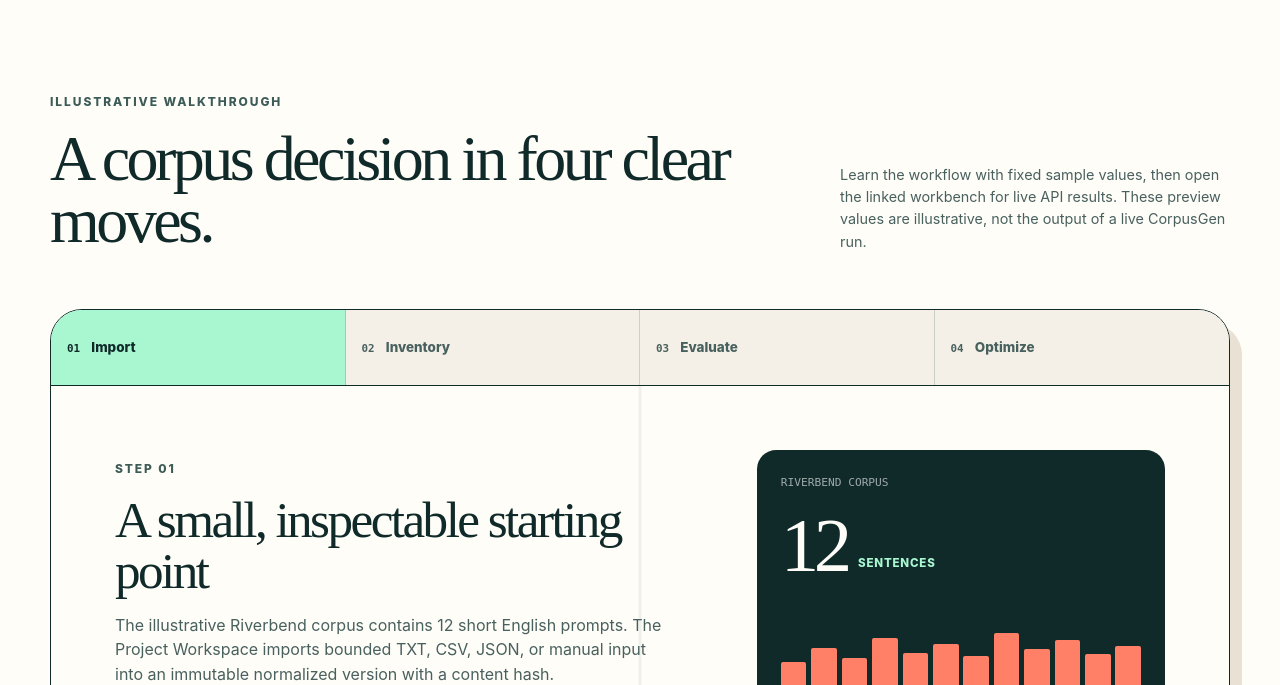
Test: GuidedDemo › labels its values as illustrative and changes steps accessibly
The width and height of the screenshot is (1280, 685).
expect the text "not the output of a live CorpusGen run" is shown: met, box [840,166,1225,250]
Click the tab named "04 optimize": click(1005, 347) [934,310,1229,385]
(page scrolled)
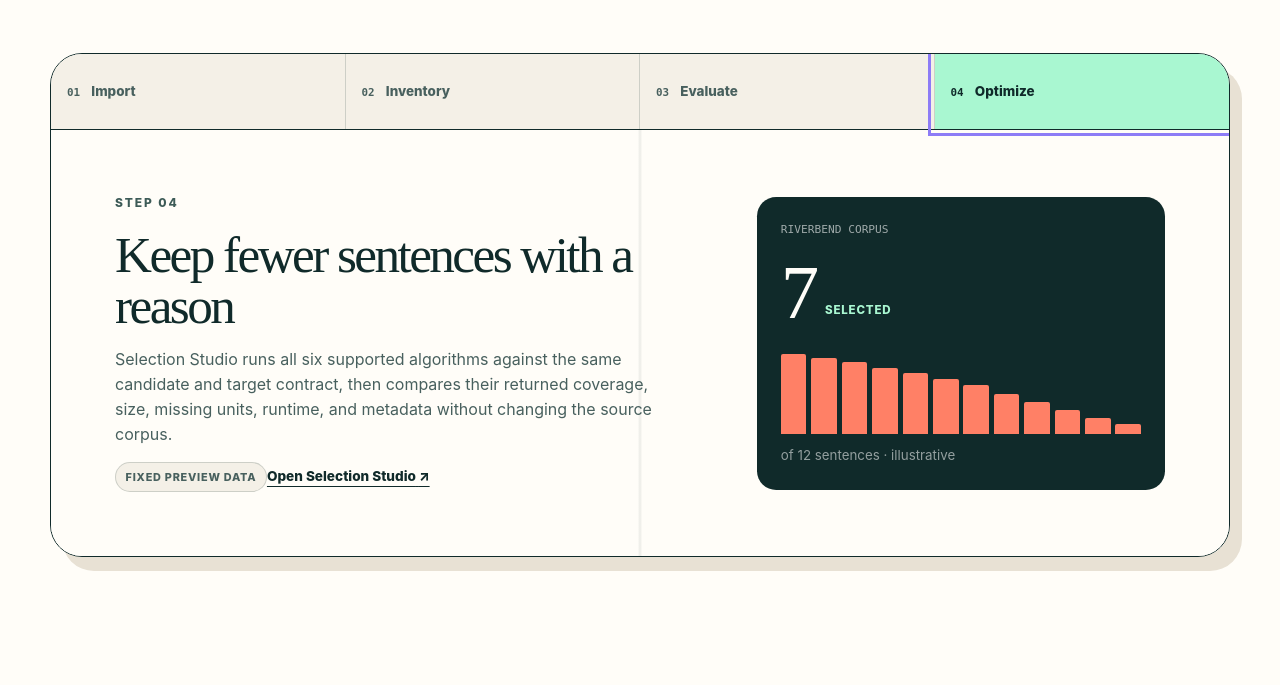
expect the text "Fixed preview data" is shown: met, box [115,462,267,492]
expect the panel shows "Keep fewer sentences with a reason": met, box [115,226,631,334]
